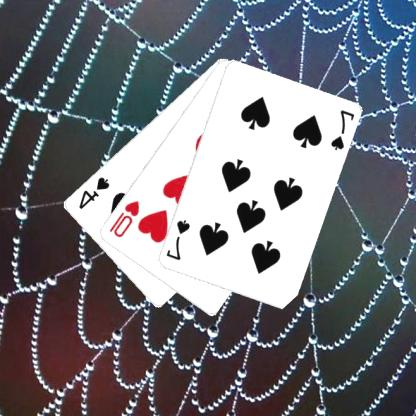10H: (107, 198, 142, 239)
4S: (77, 174, 113, 210)
7S: (164, 217, 193, 262), (330, 107, 358, 152)
